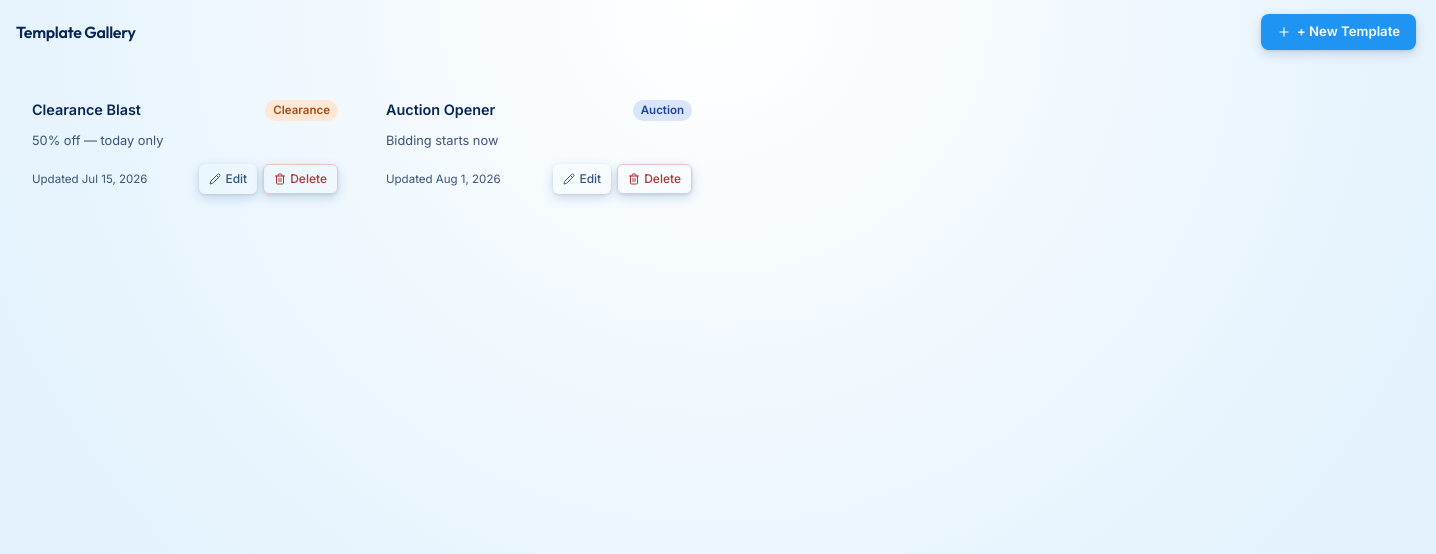
Test: Issue 02 — Template Gallery › S4: delete action › removes the card from the list after Delete is confirmed without a full reload
This screenshot has width=1436, height=554.
Expected: the text "Clearance Blast" is shown, [32, 101, 141, 118]
Click the button "Delete" in the row of "Jul 15, 2026". click: coordinates (301, 179)
box: [263, 164, 338, 194]
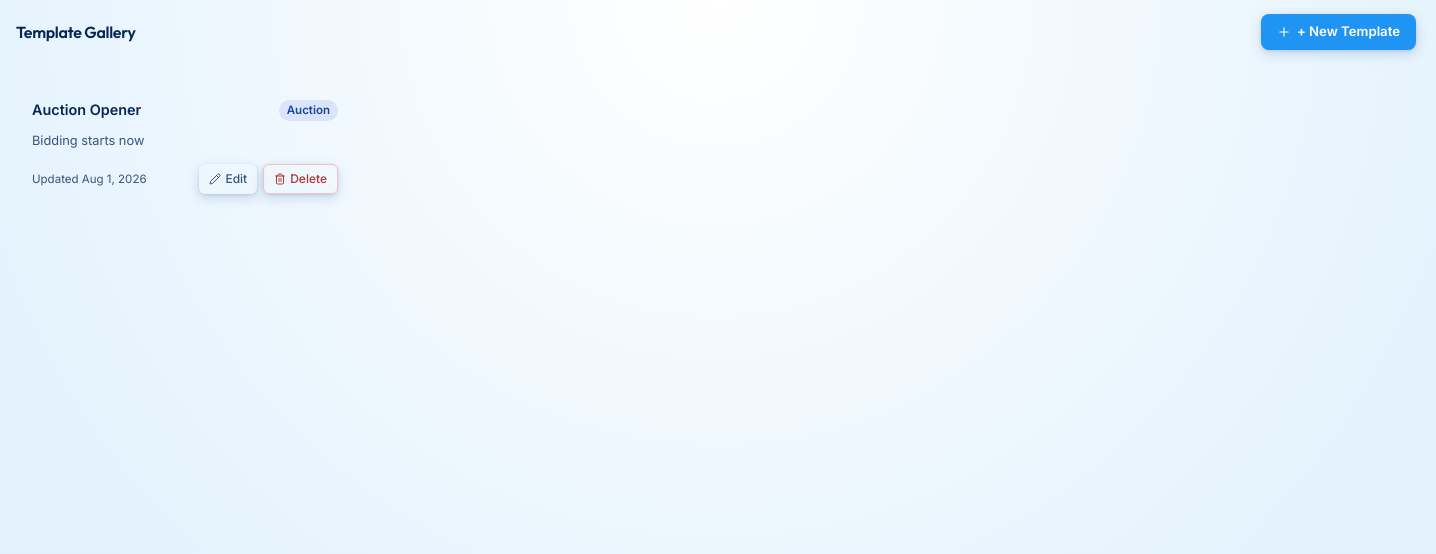
Expected: the text "Auction Opener" is shown, [32, 101, 141, 118]
Expected: the text "Clearance Blast" is gone
